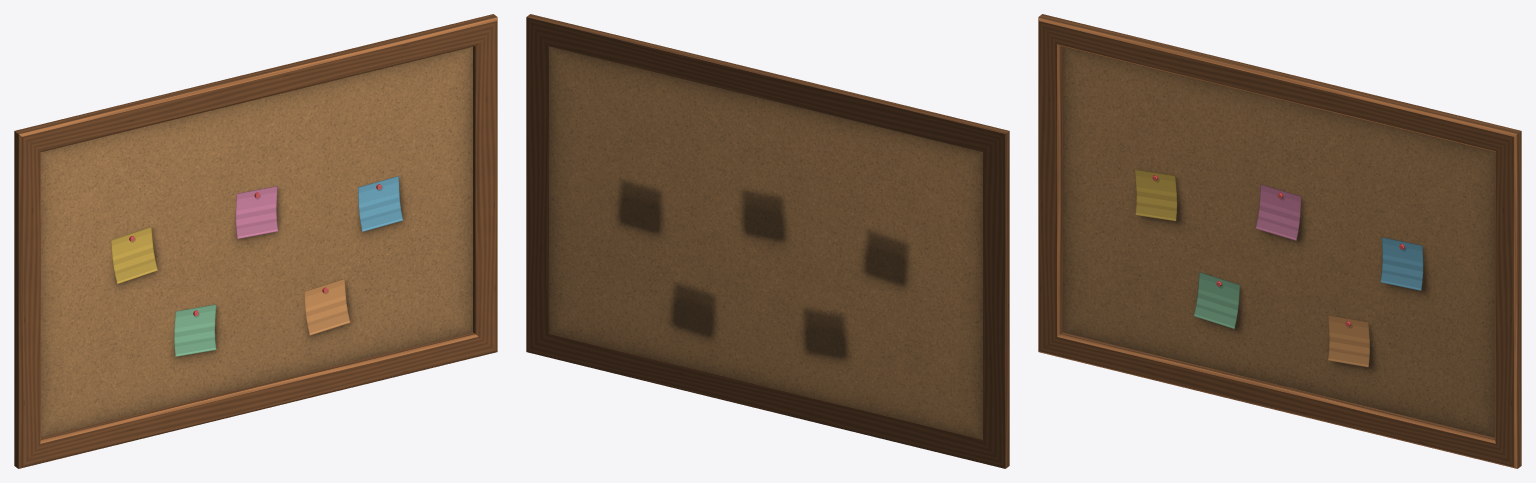
Rendered from bulletin-model.glb.
3 renders of one model, left to right at view 1: azimuth 30°, elevation 25°; view 2: azimuth 150°, elevation 25°; view 3: azimuth 330°, elevation 25°, orthographic.
Visible parts, largest first — view 1: bulletin_board, postit_1, postit_5, postit_3, postit_4, postit_2; view 2: bulletin_board; view 3: bulletin_board, postit_2, postit_4, postit_3, postit_1, postit_5.
Boxes of the visible parts, bbox=[...] form: bulletin_board: bbox=[14, 14, 497, 468]; postit_1: bbox=[110, 226, 157, 284]; postit_5: bbox=[304, 278, 350, 335]; postit_3: bbox=[358, 176, 403, 231]; postit_4: bbox=[174, 304, 216, 356]; postit_2: bbox=[235, 186, 278, 238]; bulletin_board: bbox=[526, 14, 1009, 468]; bulletin_board: bbox=[1038, 14, 1521, 468]; postit_2: bbox=[1255, 184, 1301, 240]; postit_4: bbox=[1193, 272, 1240, 328]; postit_3: bbox=[1380, 237, 1423, 290]; postit_1: bbox=[1134, 169, 1177, 221]; postit_5: bbox=[1327, 315, 1369, 367].
Size of the model in its own units: 1.17 by 0.78 by 0.024.
Materials: 2 (2 with a texture image).
